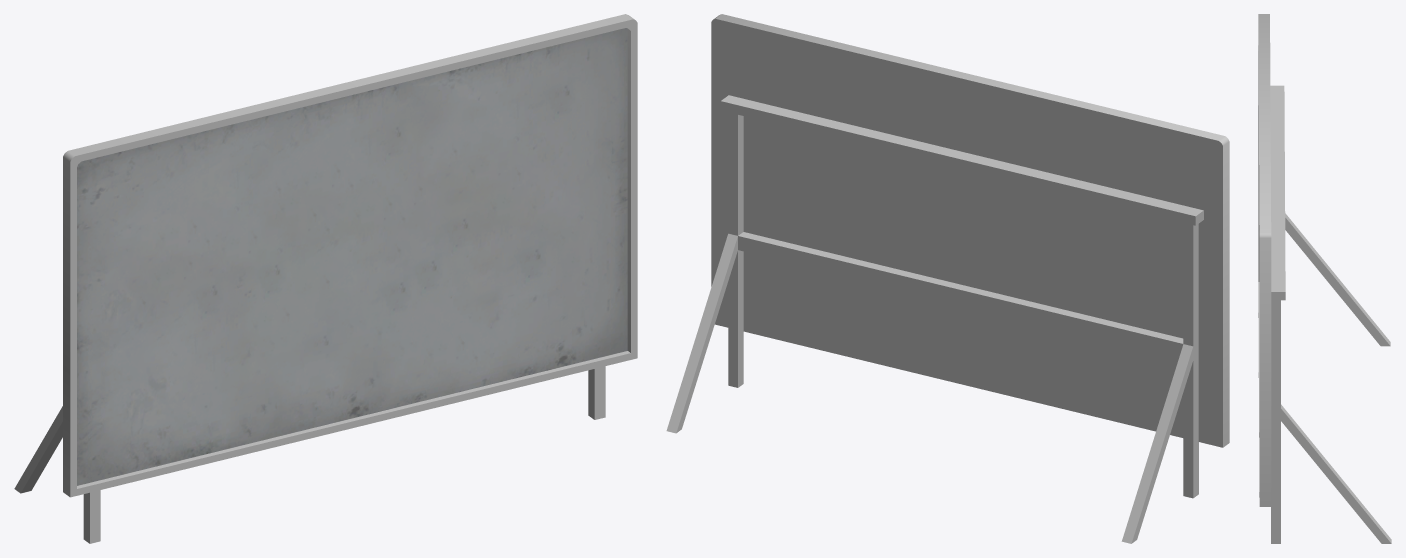
Rendered from Billboard.fbx.
The picture shows the model from 3 angles, left to right: view 1: azimuth 30°, elevation 25°; view 2: azimuth 150°, elevation 25°; view 3: azimuth 270°, elevation 25°; orthographic projection. The views are drawn at different scales.
Visible parts, largest first — view 1: Sign, Frame, Legs; view 2: Back, Legs, Frame; view 3: Legs, Frame.
Boxes of the visible parts, <box> form: Sign: <box>77,28,627,485</box>; Frame: <box>63,14,637,497</box>; Legs: <box>14,366,605,543</box>; Back: <box>711,19,1222,447</box>; Legs: <box>666,95,1203,543</box>; Frame: <box>713,14,1229,447</box>; Legs: <box>1270,85,1391,543</box>; Frame: <box>1258,14,1271,506</box>.
Bounding box in the file's own units: 7.83 × 5.25 × 1.99.
